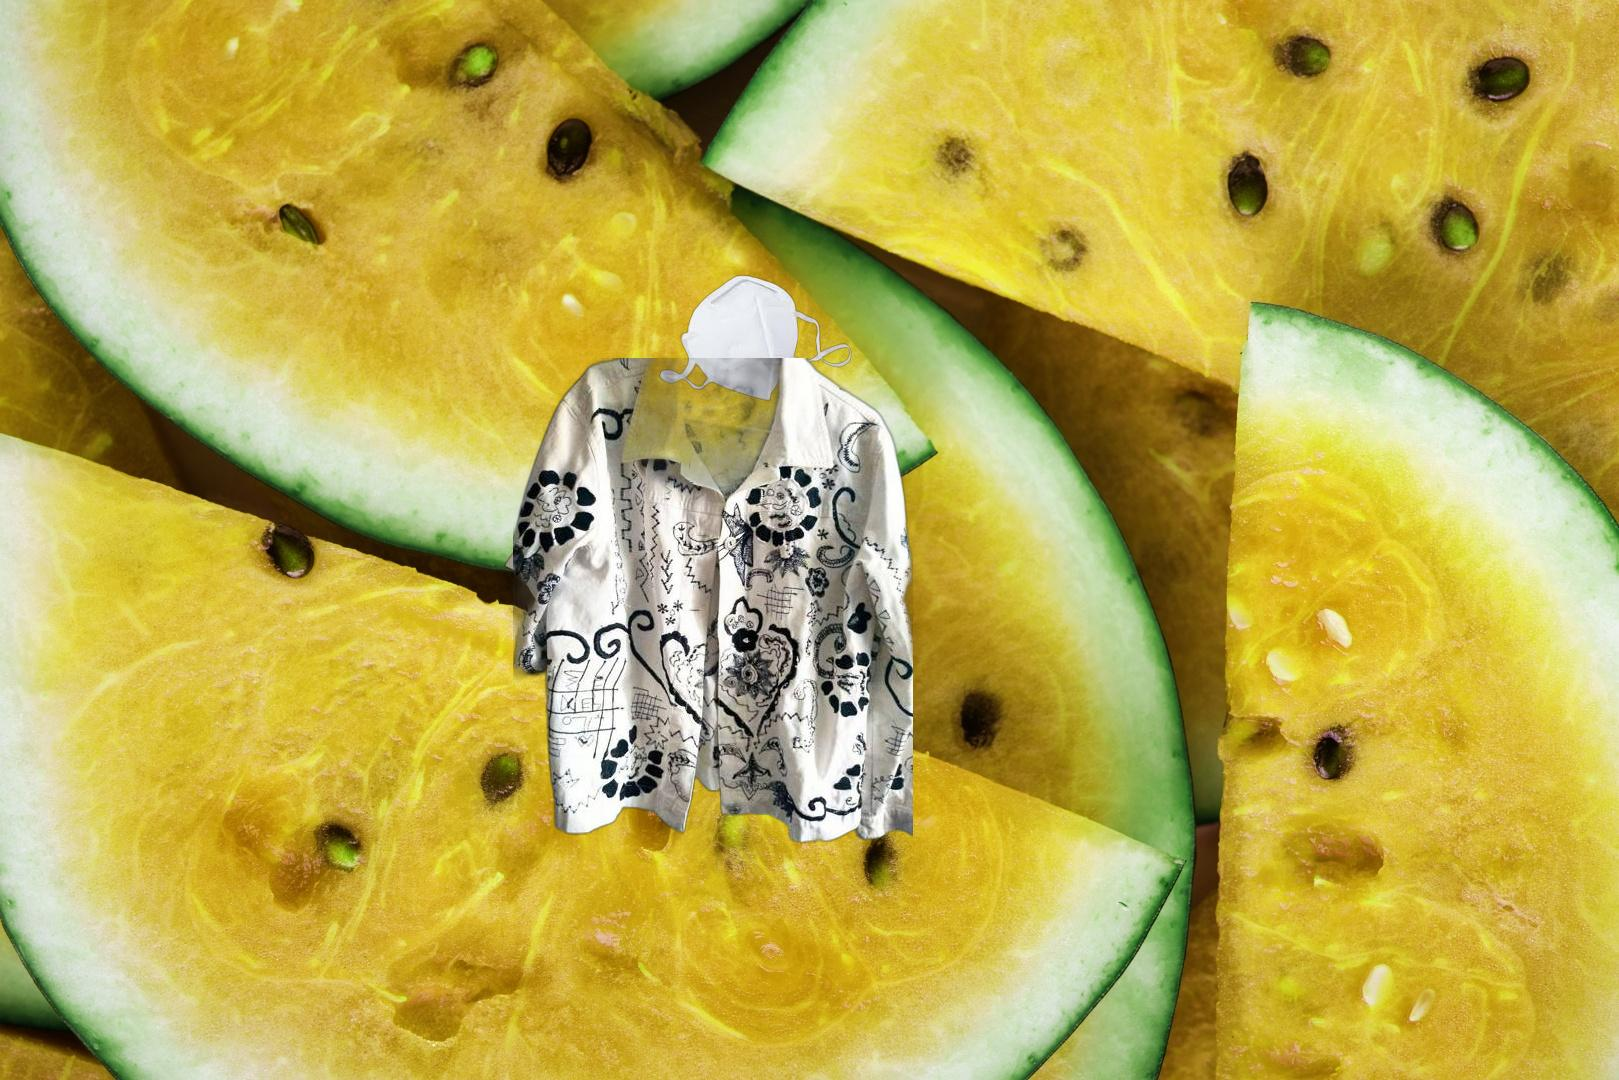clothes: (514, 358, 913, 849)
plastic-bag: (501, 491, 706, 679)
trash: (657, 272, 854, 403)
